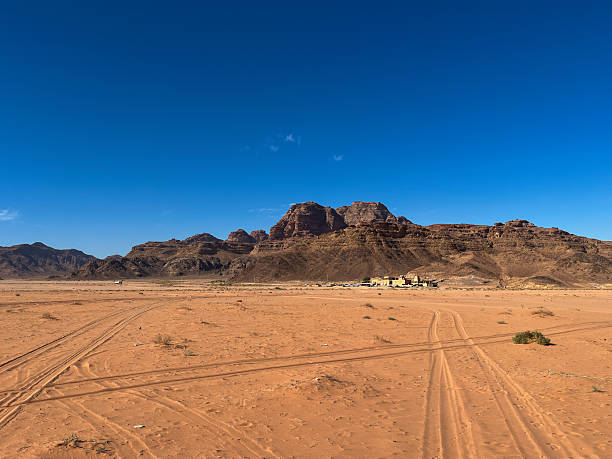vehicle_track: (447, 310, 596, 457), (0, 305, 158, 427)
